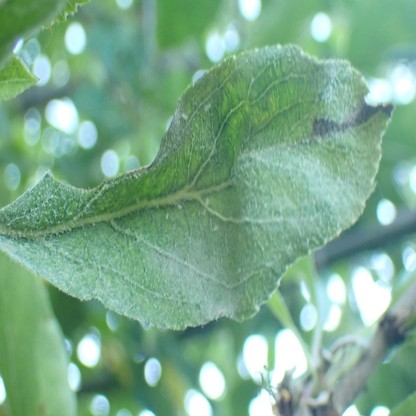powdery_mildew: (1, 43, 395, 331)
